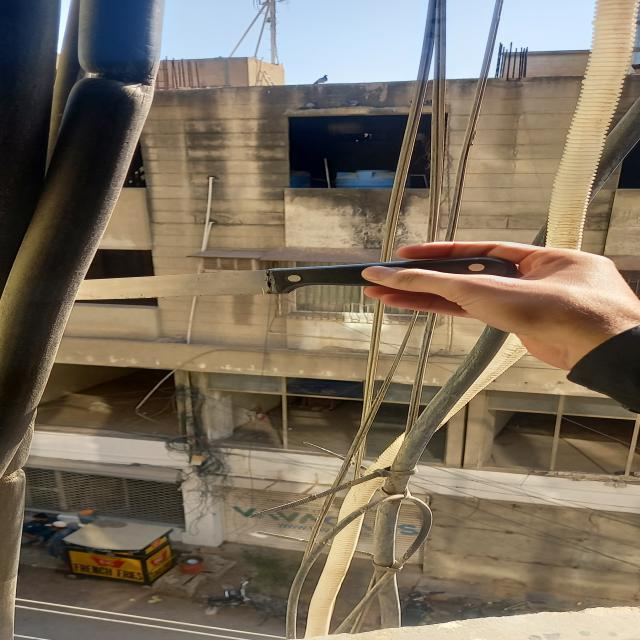Knife: (66, 252, 518, 316)
